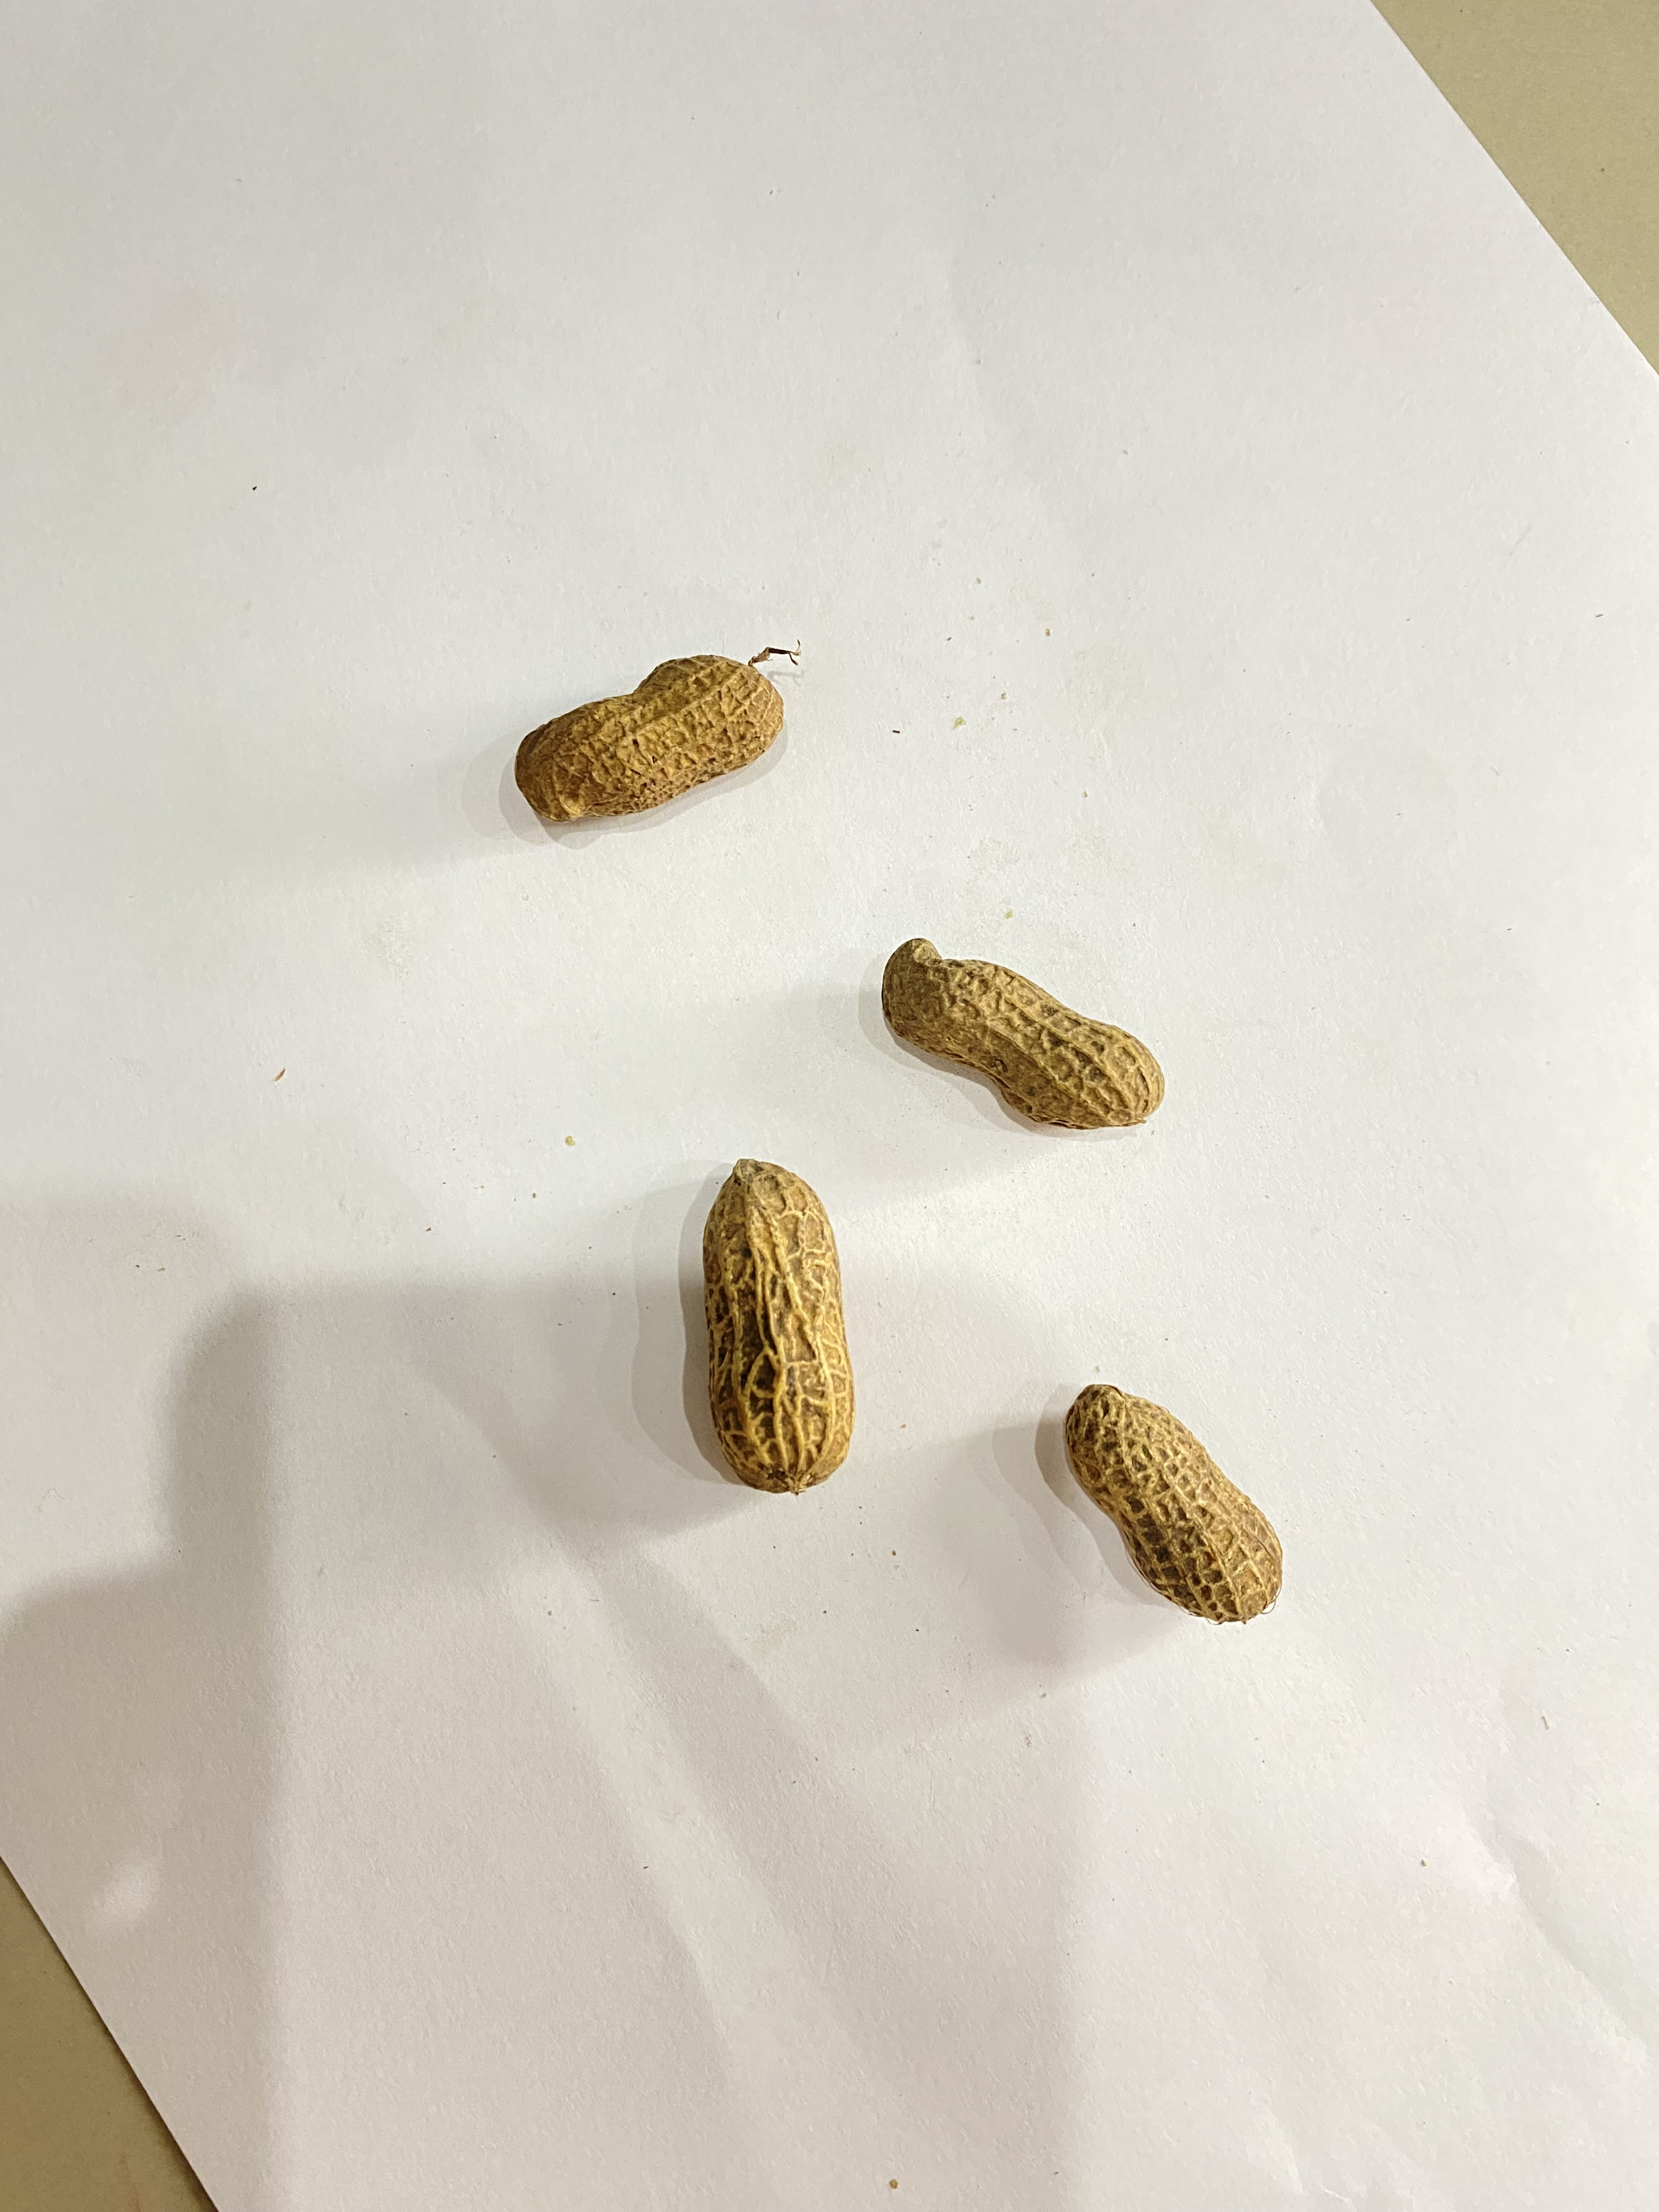kacang2: (878, 897, 1183, 1137), (505, 603, 796, 848), (1054, 1371, 1290, 1637), (701, 1160, 854, 1548)
